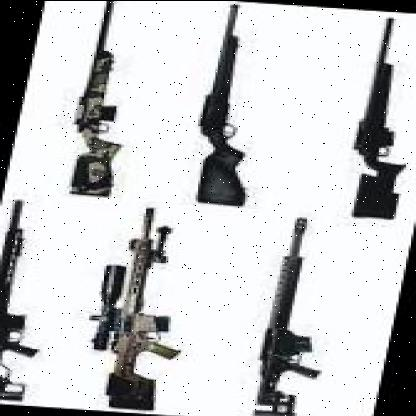rifle: (176, 2, 275, 206), (92, 206, 190, 410), (242, 218, 341, 416), (50, 0, 148, 197), (334, 15, 416, 219), (0, 200, 62, 404)
